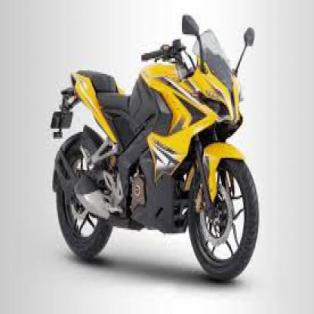Motocicleta: (45, 4, 267, 288)
